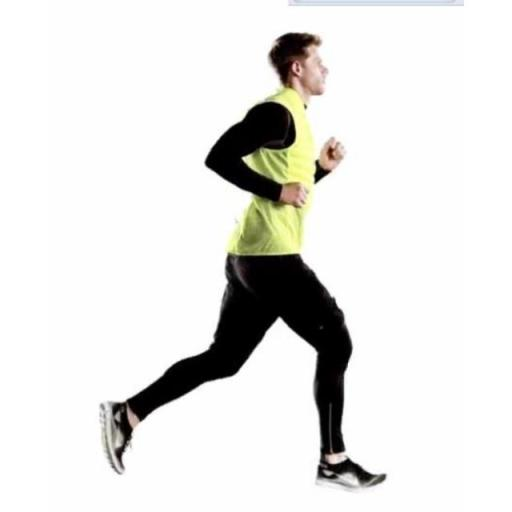Running: (99, 32, 387, 492)
